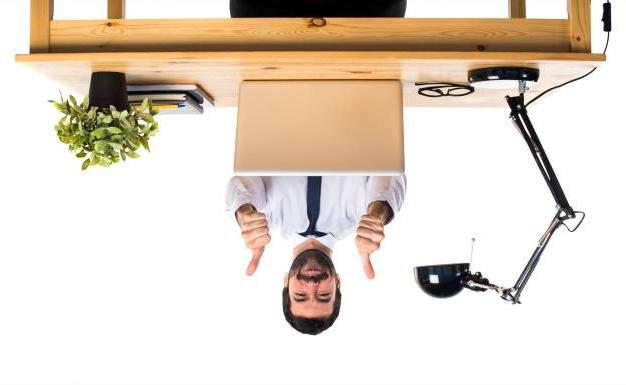thumbsdown: (241, 212, 271, 276), (356, 214, 385, 280)
